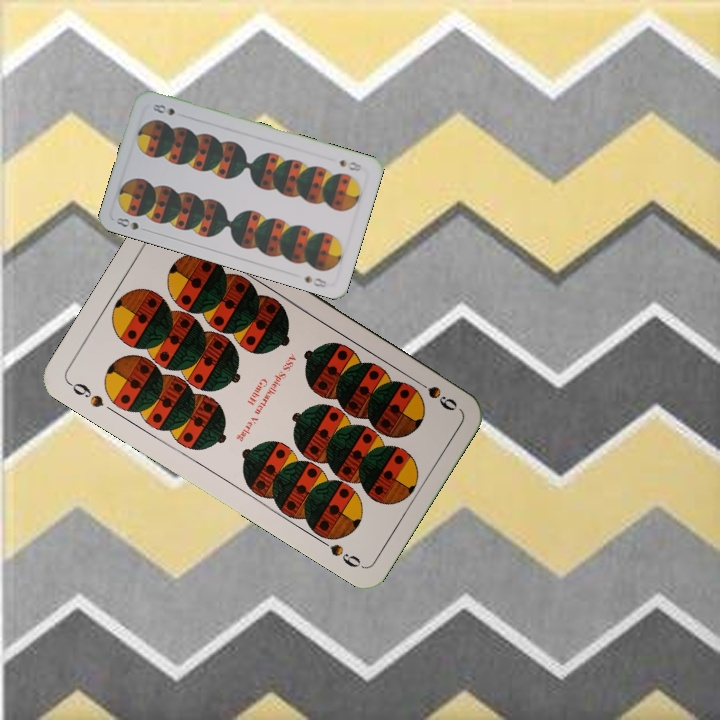S8: (112, 213, 152, 234), (335, 156, 365, 174)
S9: (408, 374, 460, 414), (64, 378, 106, 411)
